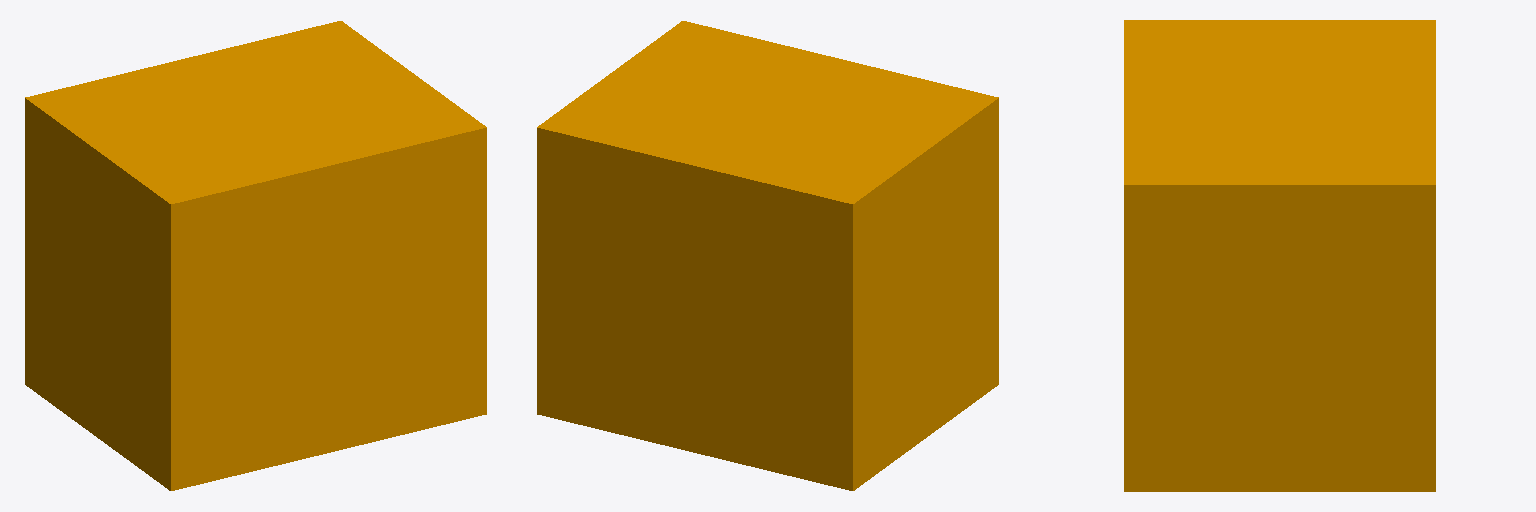
robot.urdf — object:
<?xml version="1.0"?>
<!-- Auto-generated by tools/gen_primitive_objects.py. kind=box dims=(0.075, 0.06, 0.065) -->
<robot name="object">
  <link name="object">
    <visual>
      <origin xyz="0 0 0"/>
      <geometry>
        <box size="0.075000 0.060000 0.065000"/>
      </geometry>
    </visual>
    <collision>
      <origin xyz="0 0 0"/>
      <geometry>
        <box size="0.075000 0.060000 0.065000"/>
      </geometry>
    </collision>
    <inertial>
      <mass value="0.058500"/>
      <inertia ixx="0.00003815" ixy="0.0" ixz="0.0" iyy="0.00004802" iyz="0.0" izz="0.00004497"/>
    </inertial>
  </link>
</robot>

--- What the picture shows (computed from the rendered views, not written in the file) ---
3 views of the same robot in one strip: view 1: azimuth 30°, elevation 25°; view 2: azimuth 150°, elevation 25°; view 3: azimuth 270°, elevation 25° (orthographic).
Robot: object — 1 links, 0 joints (none); root link object; default pose: all joints at 0.
Links seen in each view (by area): view 1: object; view 2: object; view 3: object.
Link boxes in pixels (x1,y1,x2,y2): object: [25, 21, 486, 490]; object: [537, 21, 998, 490]; object: [1124, 20, 1435, 491].
Size in the robot's own frame: 0.075 by 0.06 by 0.065 metres.
Geometry: primitives only (box / cylinder / sphere), no mesh files.
